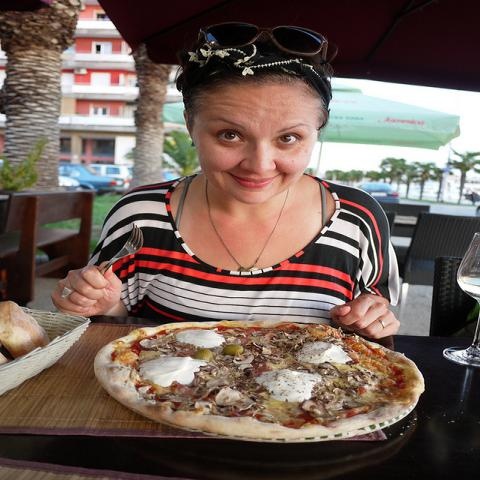car: (57, 163, 126, 190), (357, 182, 399, 204)
